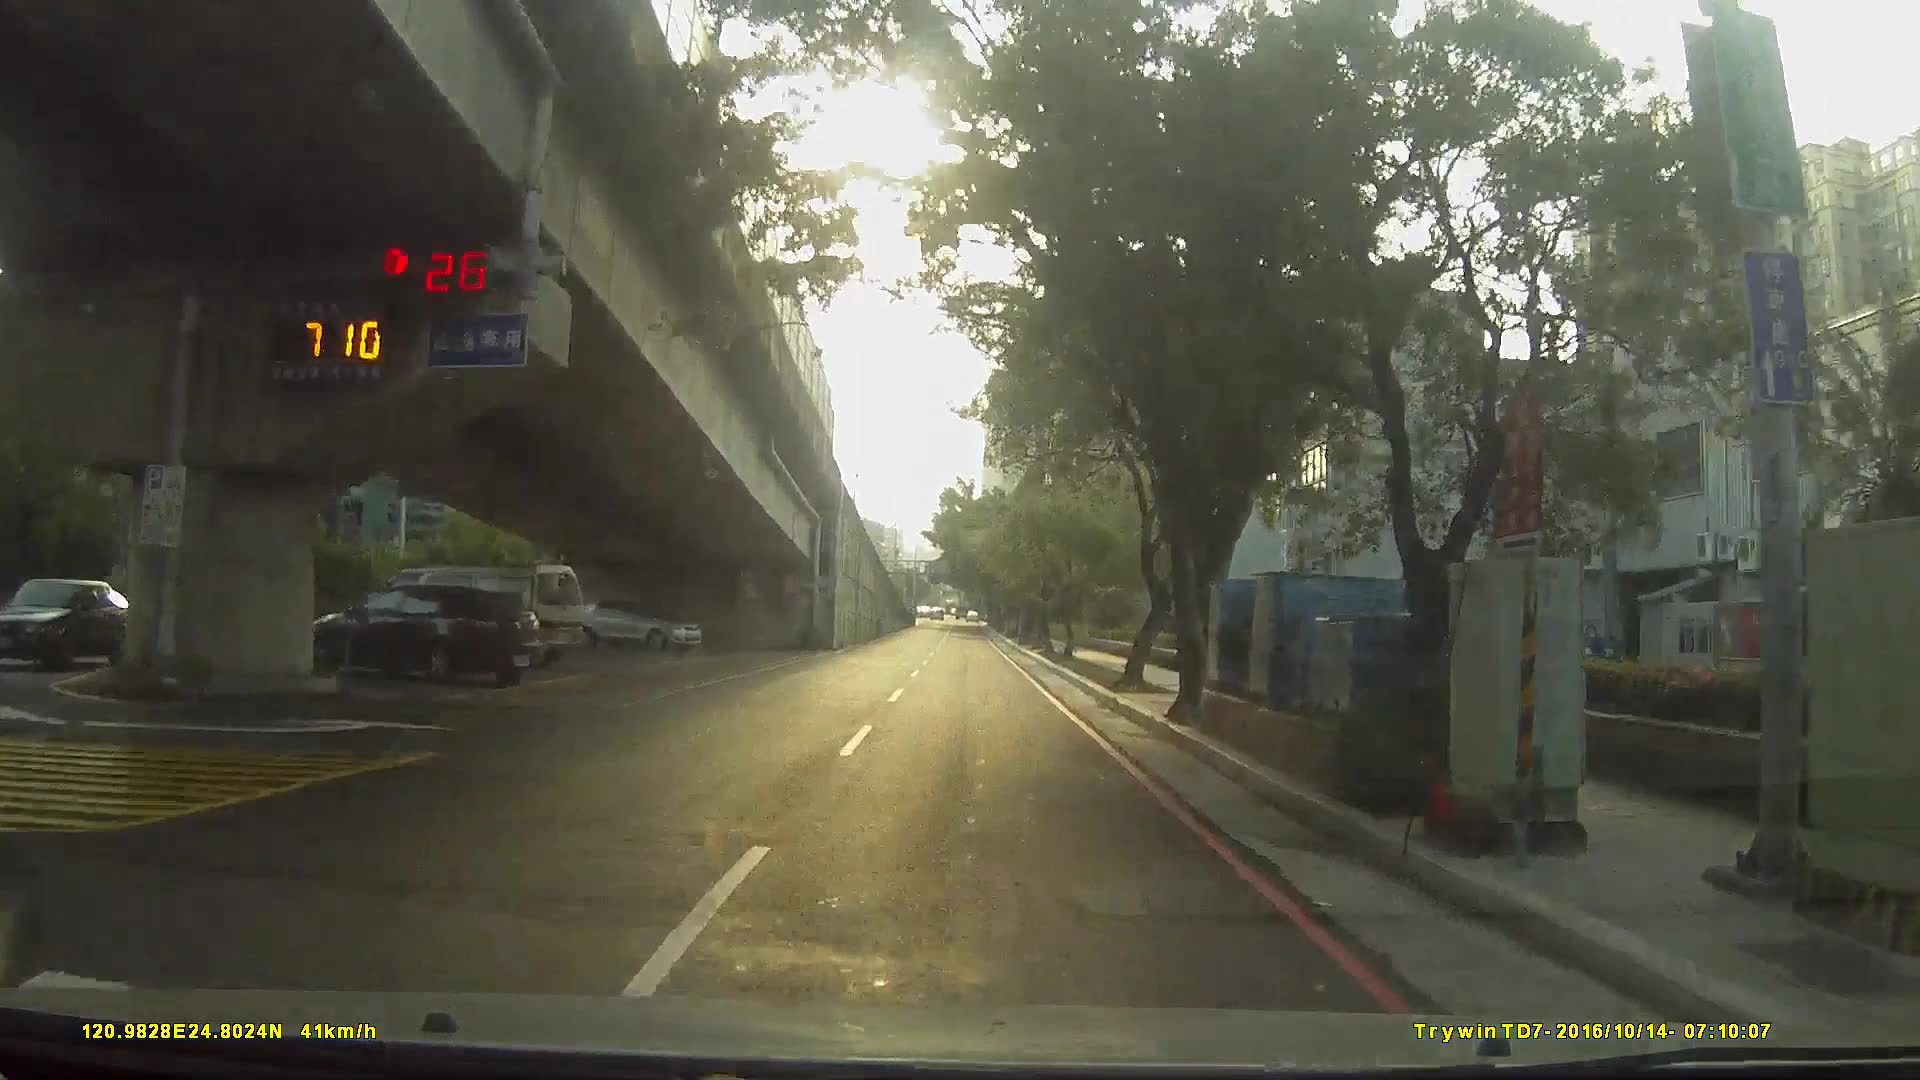vehicle: (285, 584, 534, 691), (357, 562, 580, 671), (7, 580, 152, 676), (574, 595, 702, 651)
